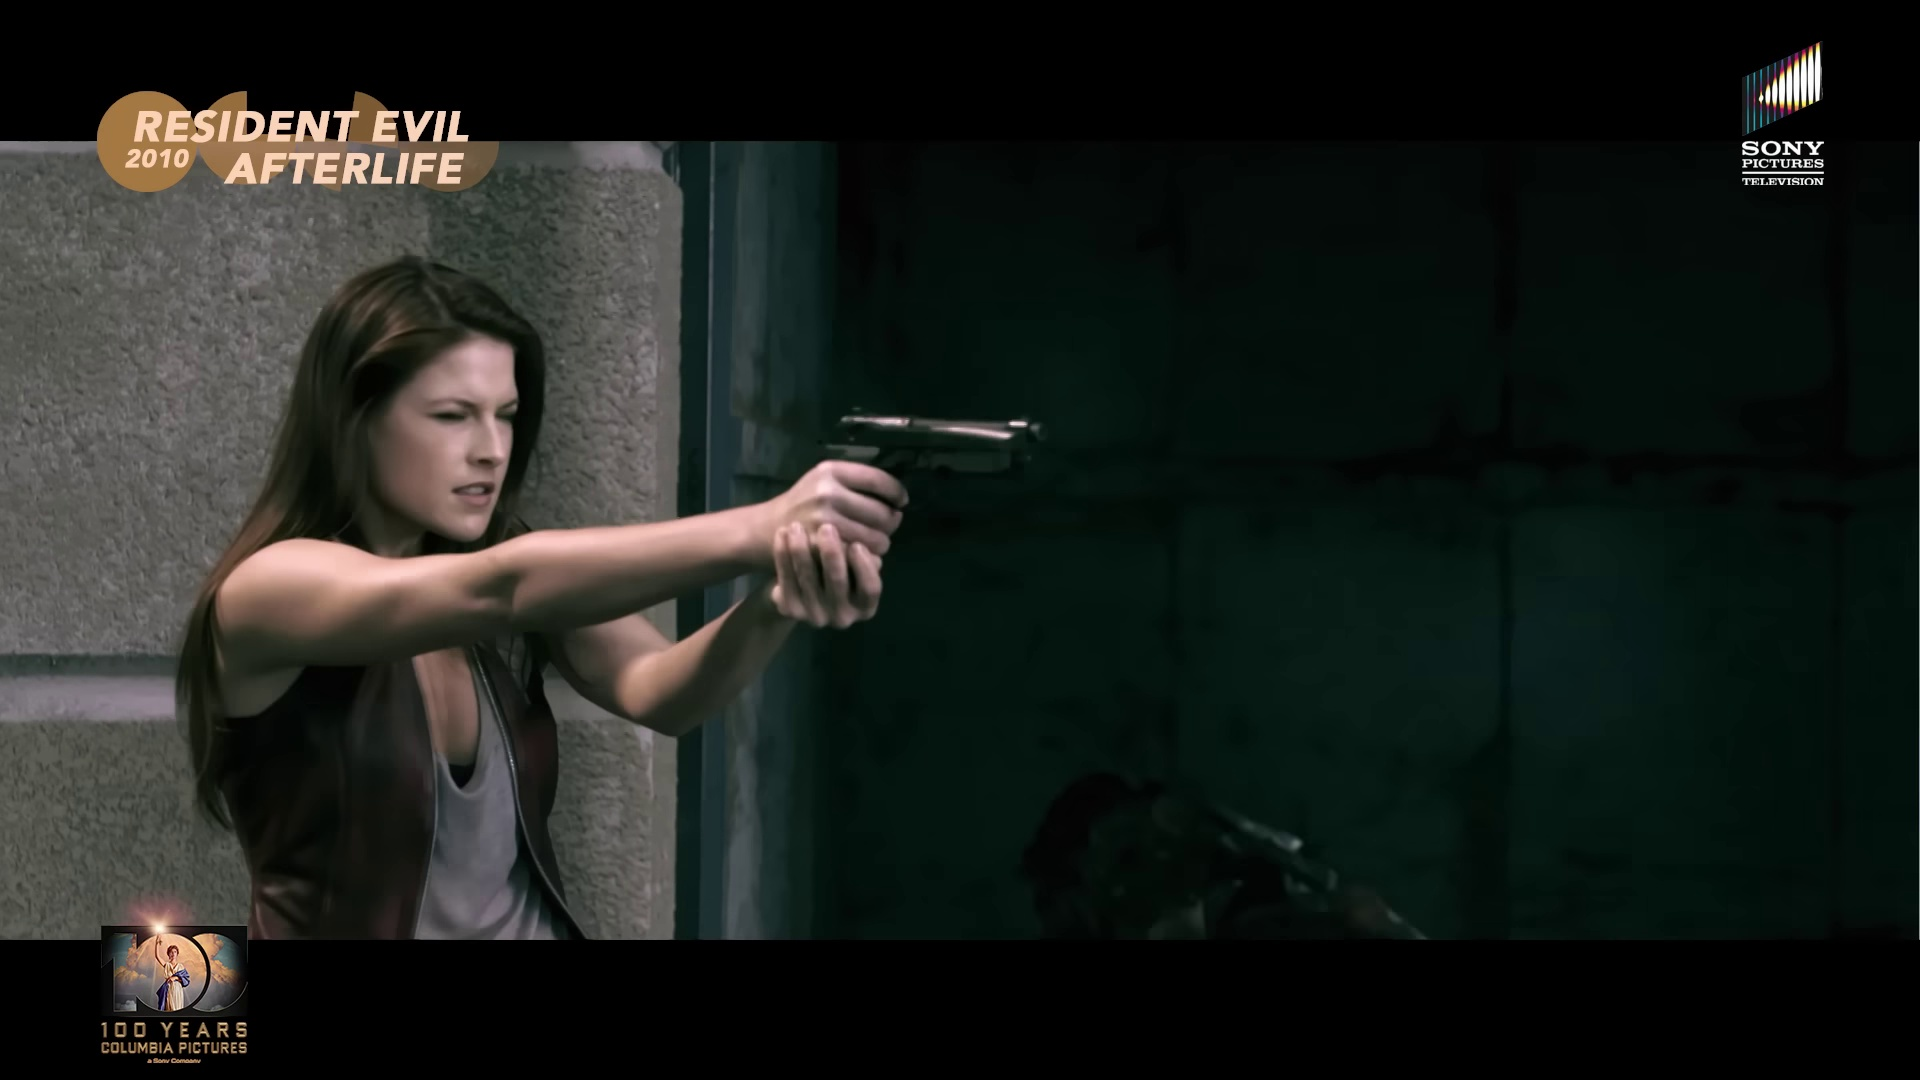gun: (819, 386, 1051, 551)
p_w_gun: (177, 256, 910, 938)
